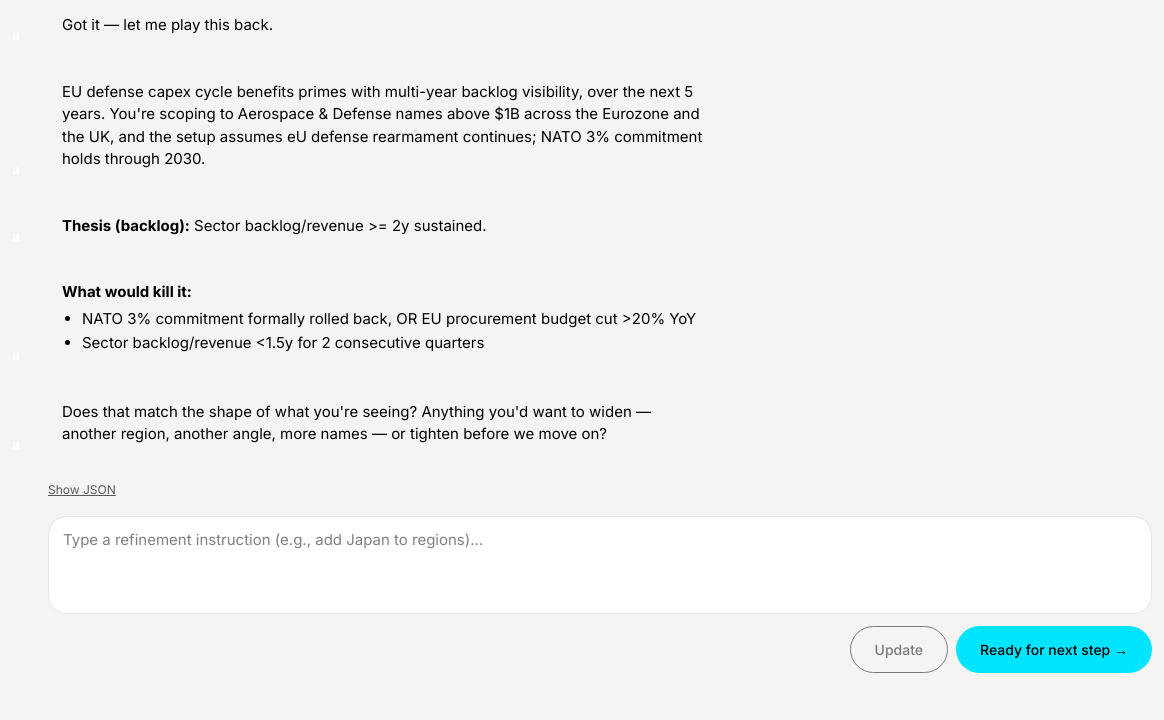
Test case: <ThesisChatArtifact> › falls back to raw diff lines when narrative is null
Step 1. Type "add Japan" into the text box with placeholder "refinement instruction" → (600, 564), box [63,528,1137,600]
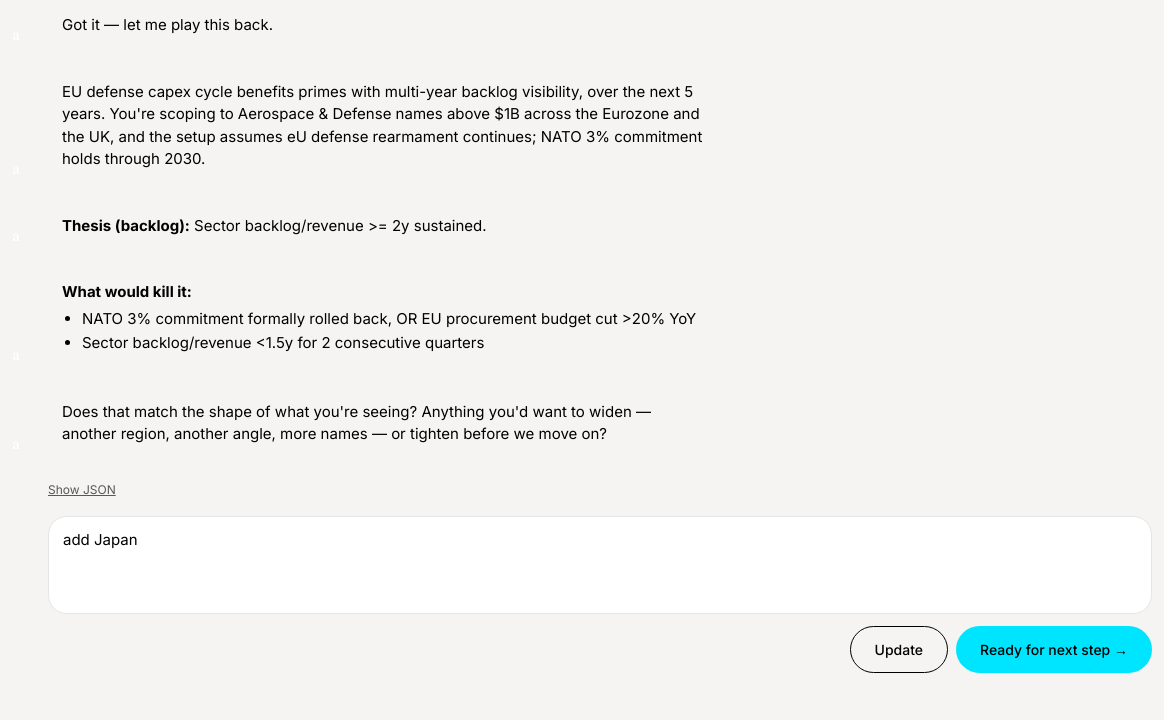
Step 2. Click the button "Update" → (899, 649), box [850,626,948,672]
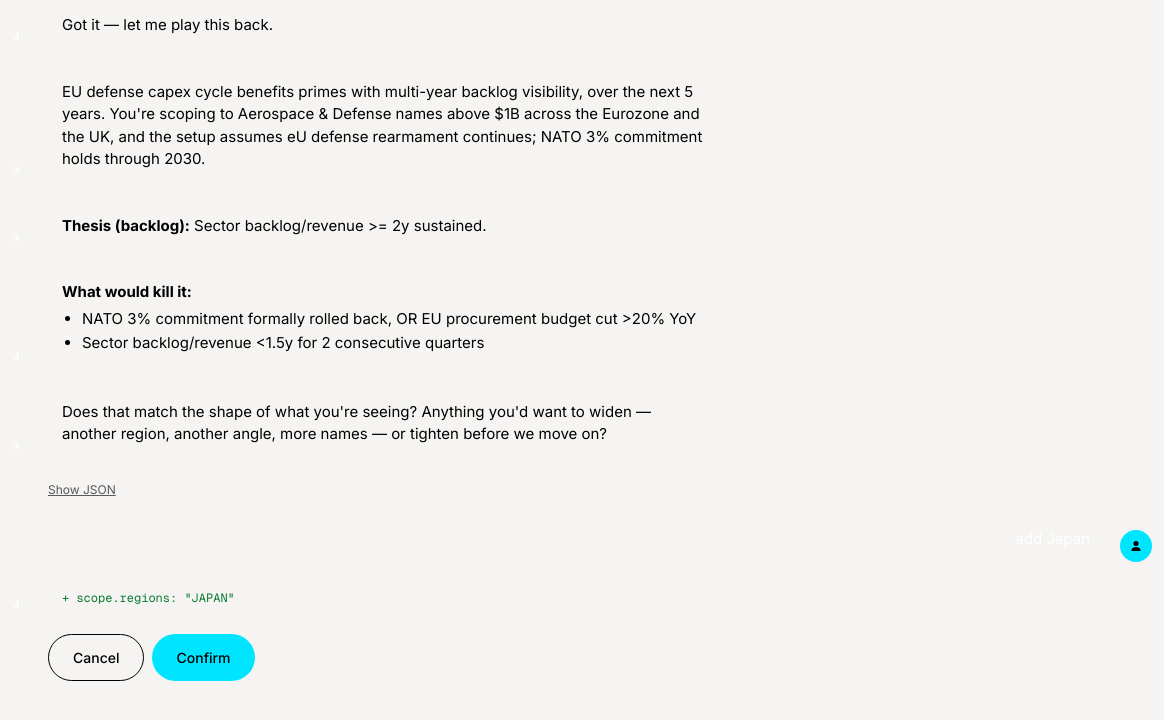
Expected: the list item "+ scope.regions: \"JAPAN\"" is shown, [62,590,235,606]
